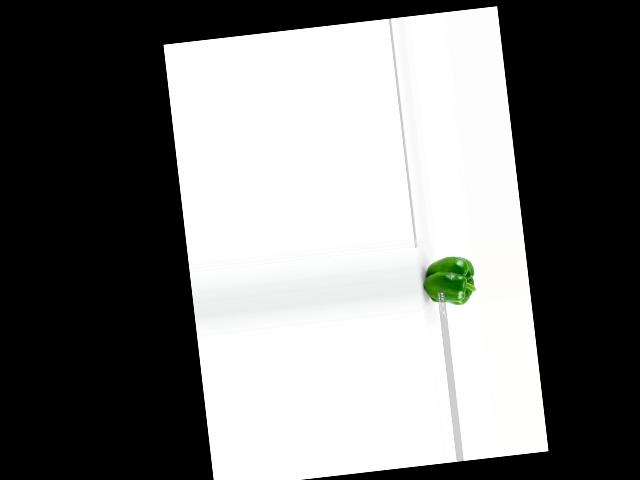bell_pepper: (418, 251, 480, 308)
